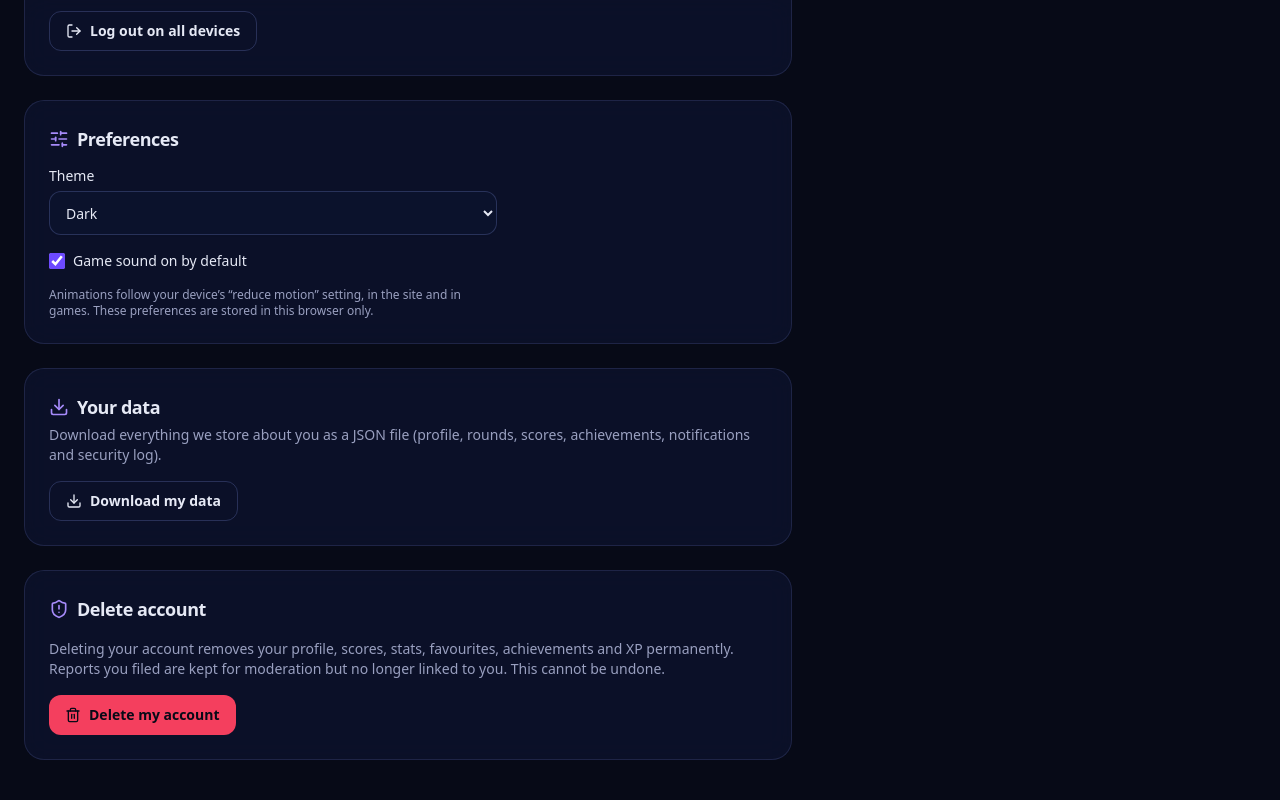
Scenario: SettingsPage › asks for the password before deleting the account and shows server errors
(page scrolled)
Click the button "Delete my account": (142, 715) [49, 695, 236, 735]
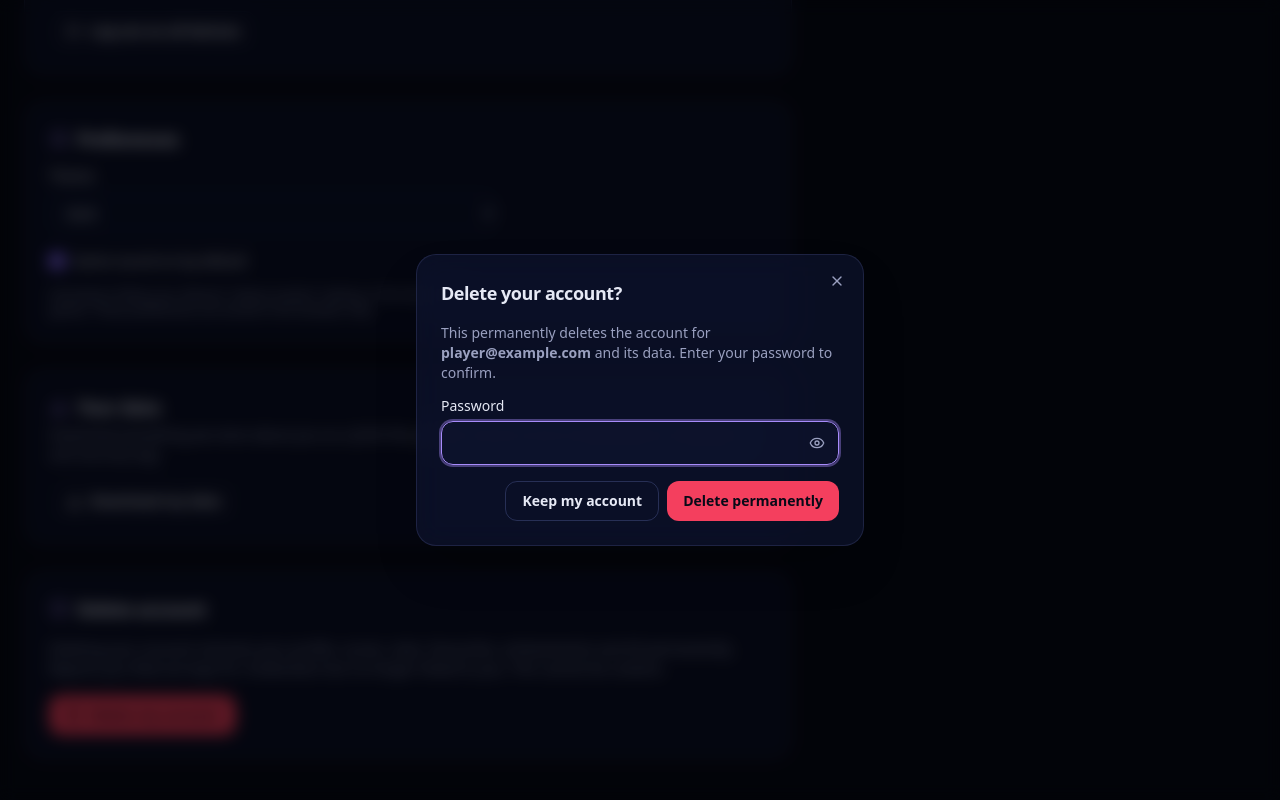
Click the button "Delete permanently": (753, 501) [667, 481, 839, 521]
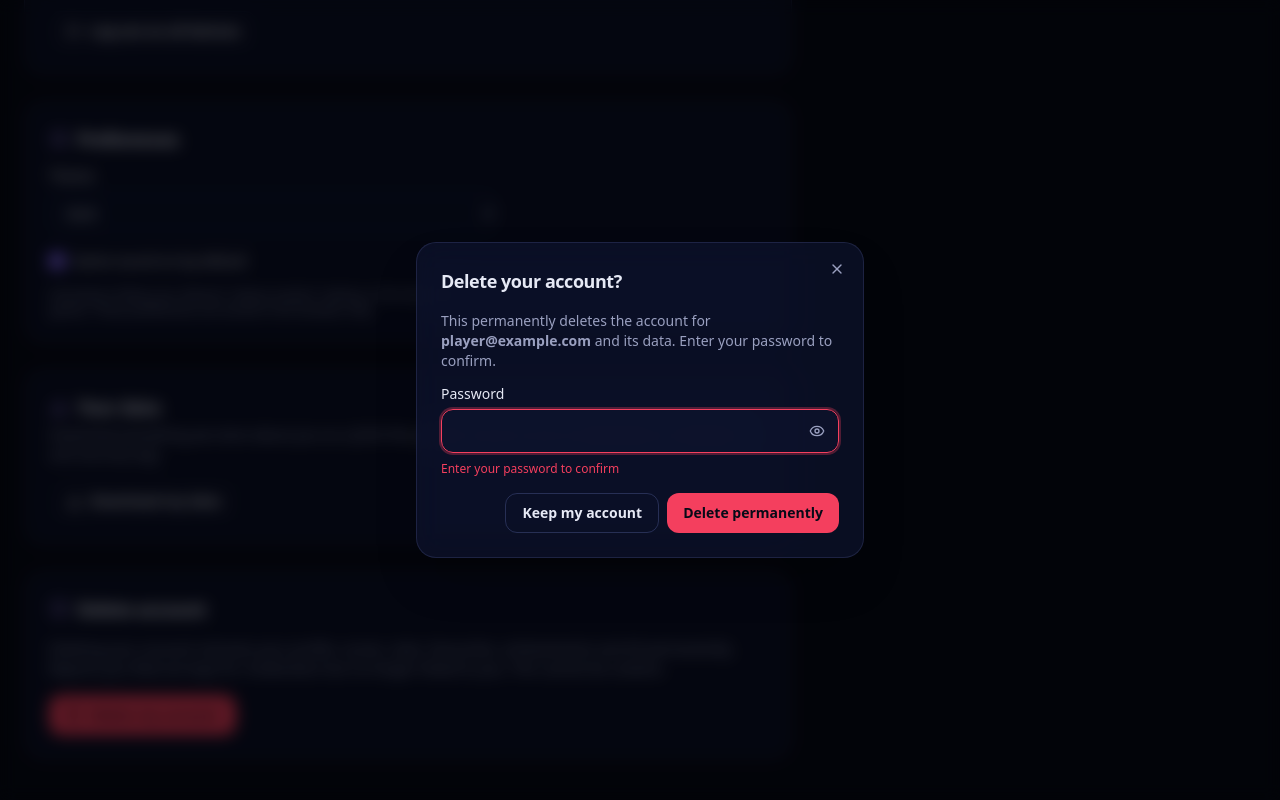
Now the text "Enter your password to confirm" is shown, box [441, 460, 619, 477]
In the password field labelled "Password": (640, 431) [441, 409, 839, 453], type "wrong password"
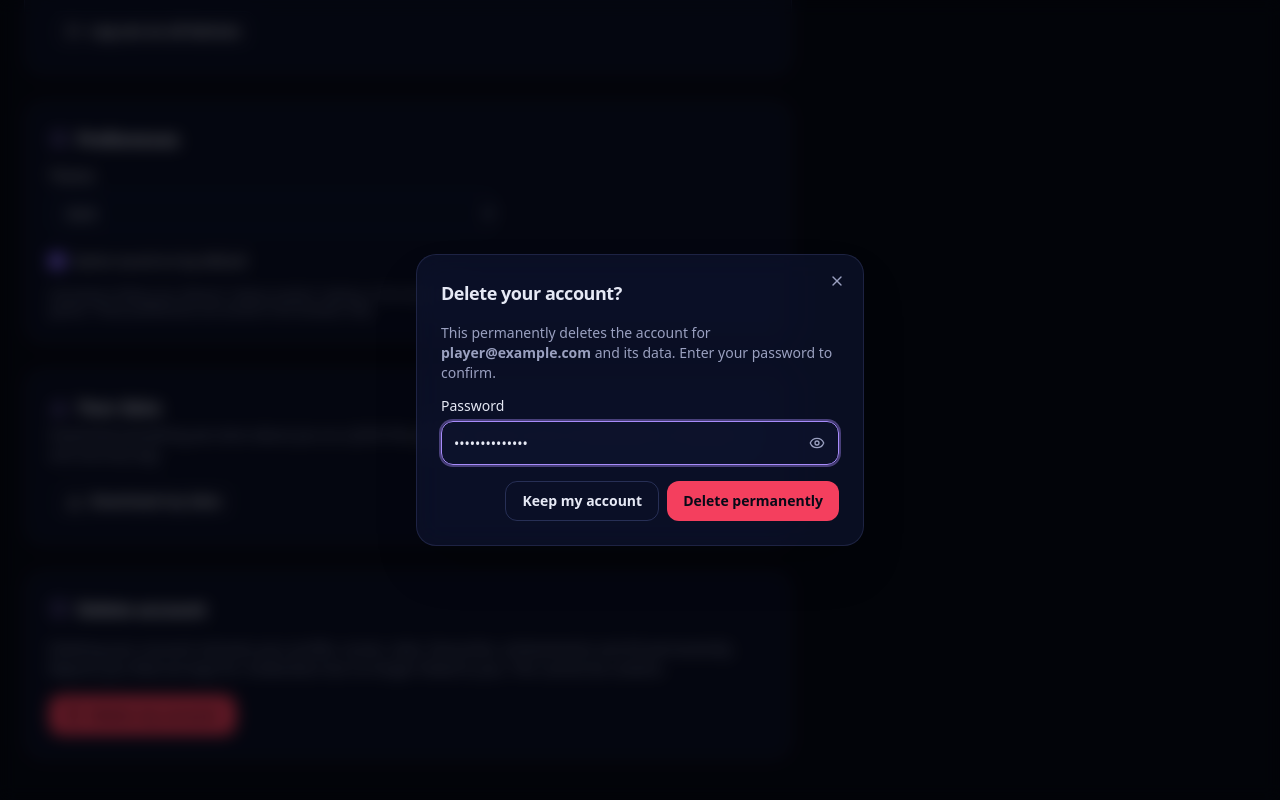
Click the button "Delete permanently": (753, 501) [667, 481, 839, 521]
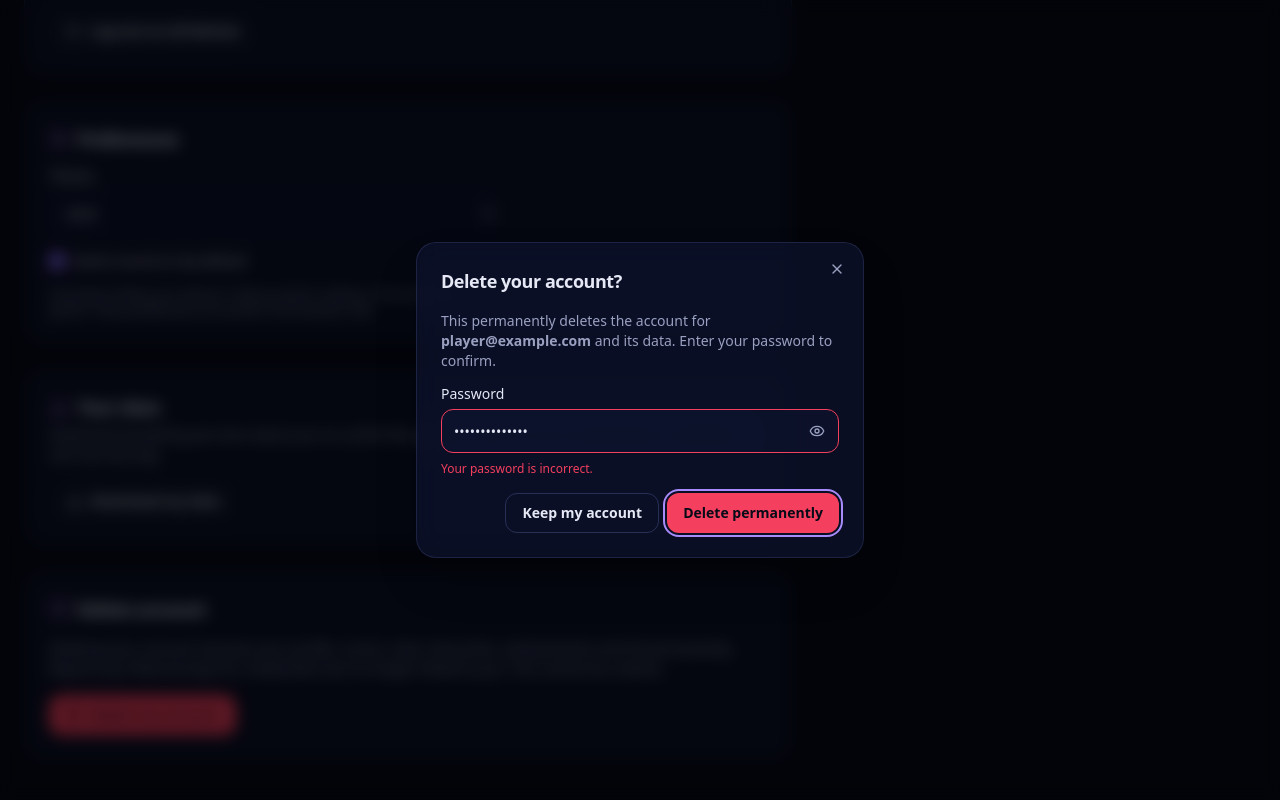
Now the text "Your password is incorrect." is shown, box [441, 460, 593, 477]
